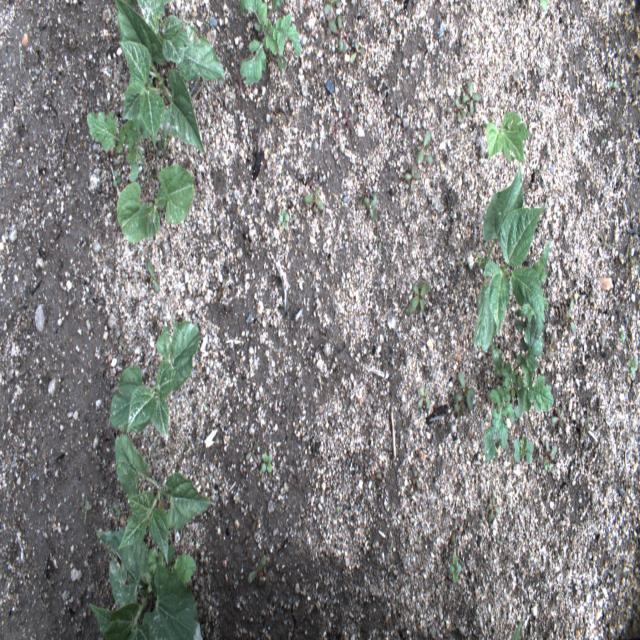crop: (115, 0, 205, 152), (474, 165, 546, 353), (115, 432, 213, 564), (88, 526, 202, 638), (109, 321, 199, 441), (125, 0, 227, 81), (117, 163, 194, 244), (481, 112, 533, 163)
weed: (483, 296, 554, 462), (240, 0, 300, 83), (86, 111, 146, 182), (146, 543, 196, 594), (453, 372, 475, 421), (406, 283, 430, 315), (461, 80, 480, 116), (329, 15, 346, 55), (560, 298, 576, 334), (248, 555, 266, 585), (304, 188, 324, 214), (417, 132, 433, 164), (514, 437, 533, 463), (404, 165, 421, 192), (363, 190, 377, 222), (147, 261, 160, 292), (350, 38, 366, 63), (488, 492, 500, 524), (449, 554, 461, 584), (278, 206, 291, 232), (544, 440, 557, 466), (418, 386, 432, 409), (82, 496, 92, 527), (454, 97, 465, 123), (118, 337, 133, 356), (261, 451, 273, 474), (323, 0, 340, 16), (512, 618, 524, 639), (626, 356, 638, 377), (246, 440, 257, 462), (552, 406, 563, 427), (158, 136, 168, 159), (450, 520, 460, 543), (113, 169, 122, 190), (549, 332, 556, 357), (582, 416, 590, 437), (600, 233, 610, 249), (538, 0, 549, 13), (113, 500, 121, 516), (620, 328, 626, 344), (608, 80, 617, 87), (544, 464, 552, 471), (601, 138, 607, 144)
